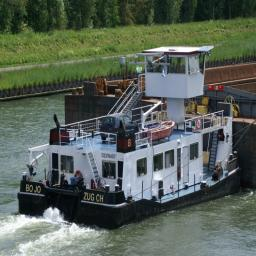tugboat: (17, 44, 246, 235)
